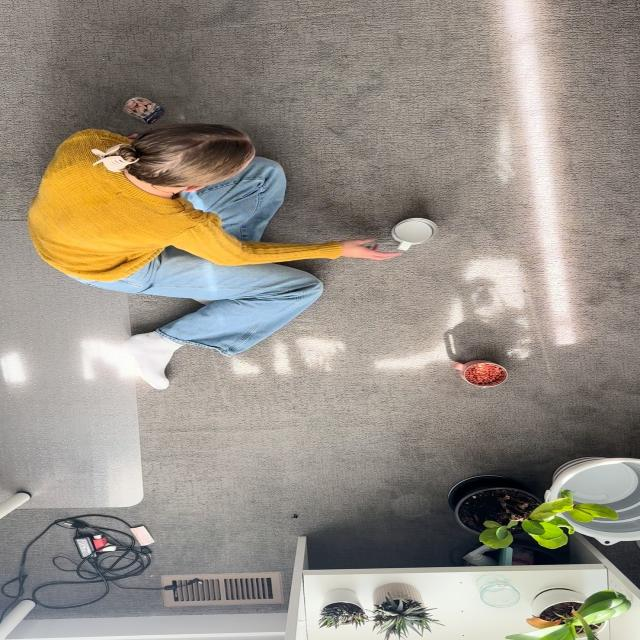IBC: (451, 360, 507, 388), (392, 218, 437, 251)
